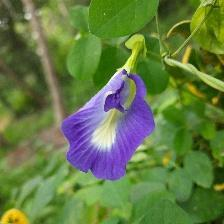shankupushpam: (60, 68, 158, 185)
